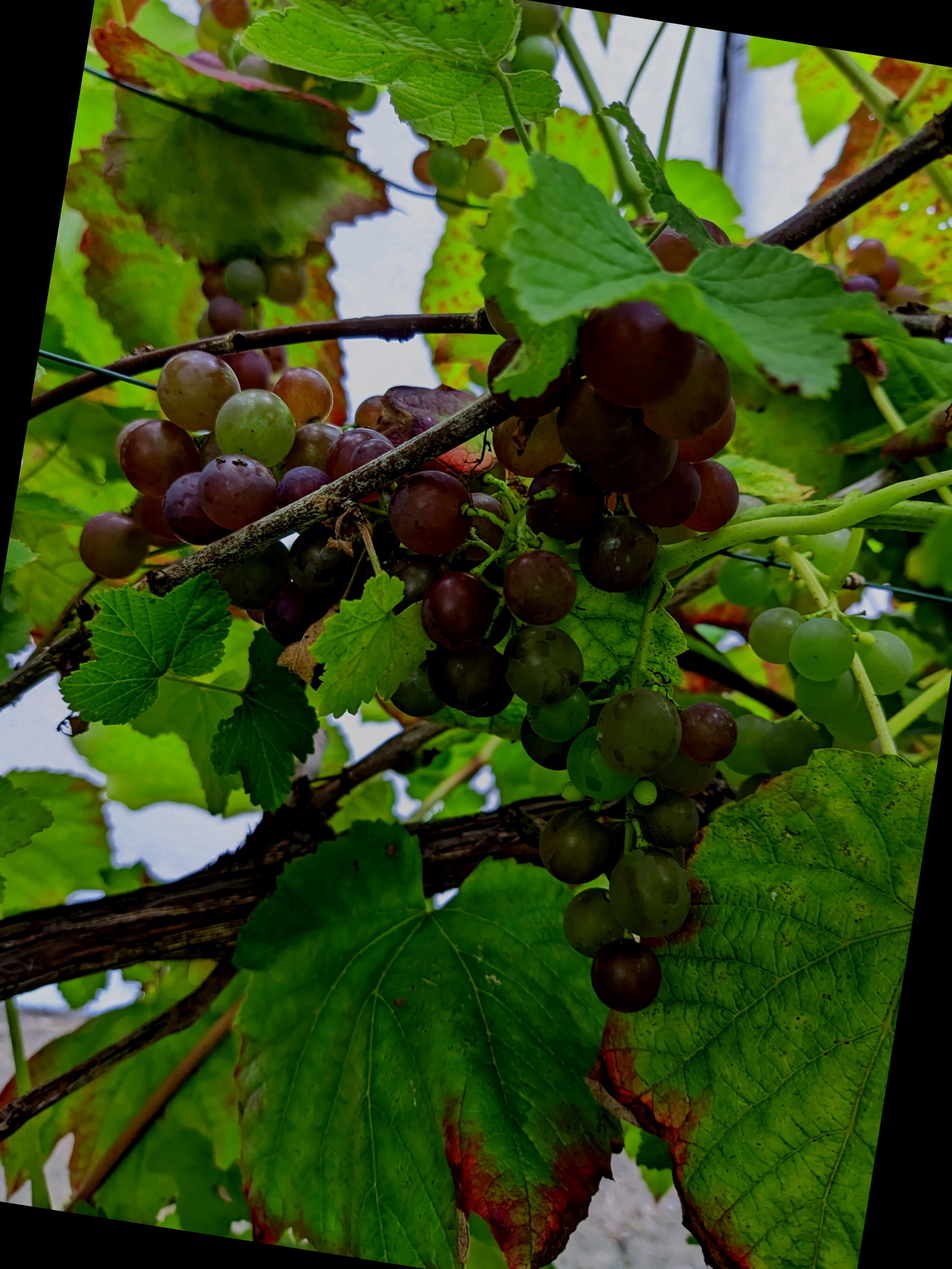Grape Unripe: (403, 115, 917, 972), (164, 258, 553, 602), (263, 0, 669, 168), (787, 445, 952, 773), (265, 181, 416, 305)
